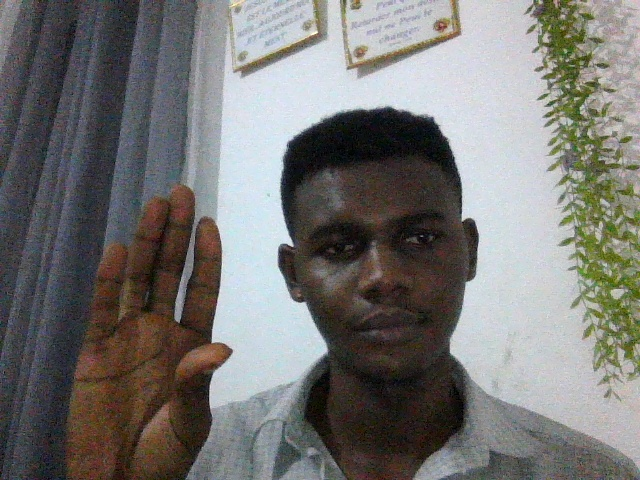hand: (57, 172, 241, 474)
